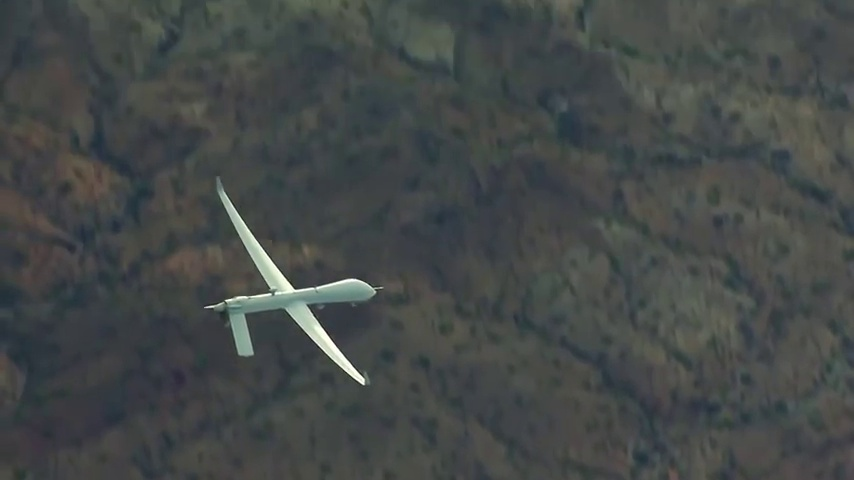military drone: (203, 176, 384, 385)
